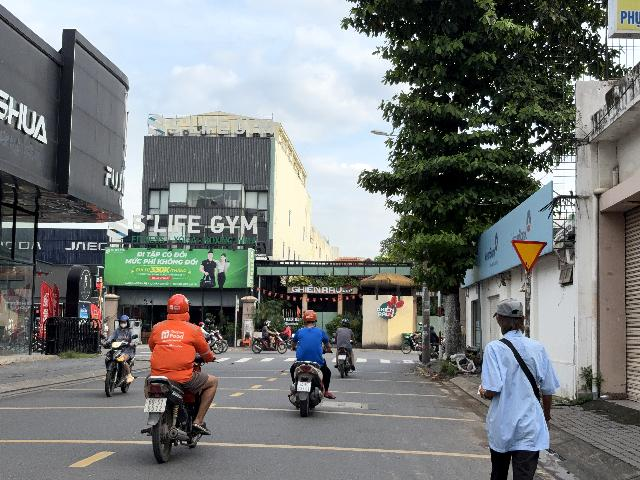giao-nhau-voi-duong-uu-tien: (511, 240, 548, 274)
